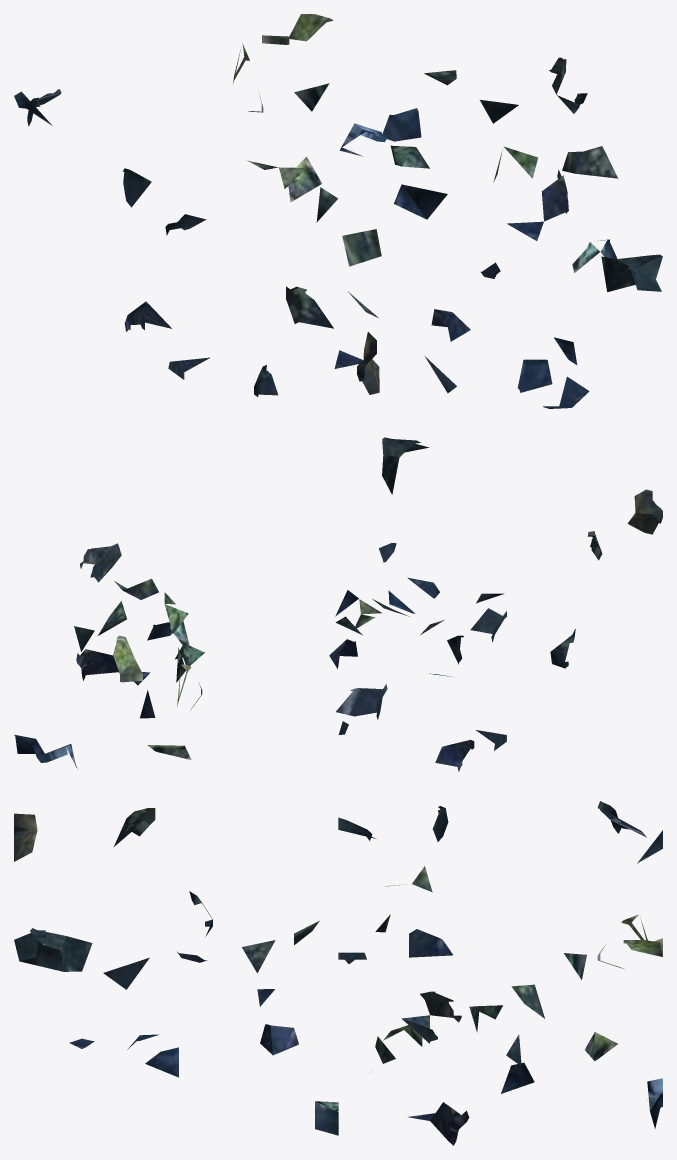
3 renders of one model, top to bottom at view 1: azimuth 30°, elevation 25°; view 2: azimuth 150°, elevation 25°; view 3: azimuth 270°, elevation 25°, orthographic. The views are drawn at different scales.
Parts seen in each view (by area): view 1: 30436272704361515531_1; view 2: 30436272704361515531_1; view 3: 30436272704361515531_1.
Boxes of the visible parts, x1=… form: 30436272704361515531_1: x1=14, y1=14, x2=662, y2=408; 30436272704361515531_1: x1=14, y1=437, x2=662, y2=771; 30436272704361515531_1: x1=14, y1=801, x2=662, y2=1145.
Size of the model in its own units: 27.77 by 10.32 by 38.26.
Materials: 1 (1 with a texture image).
